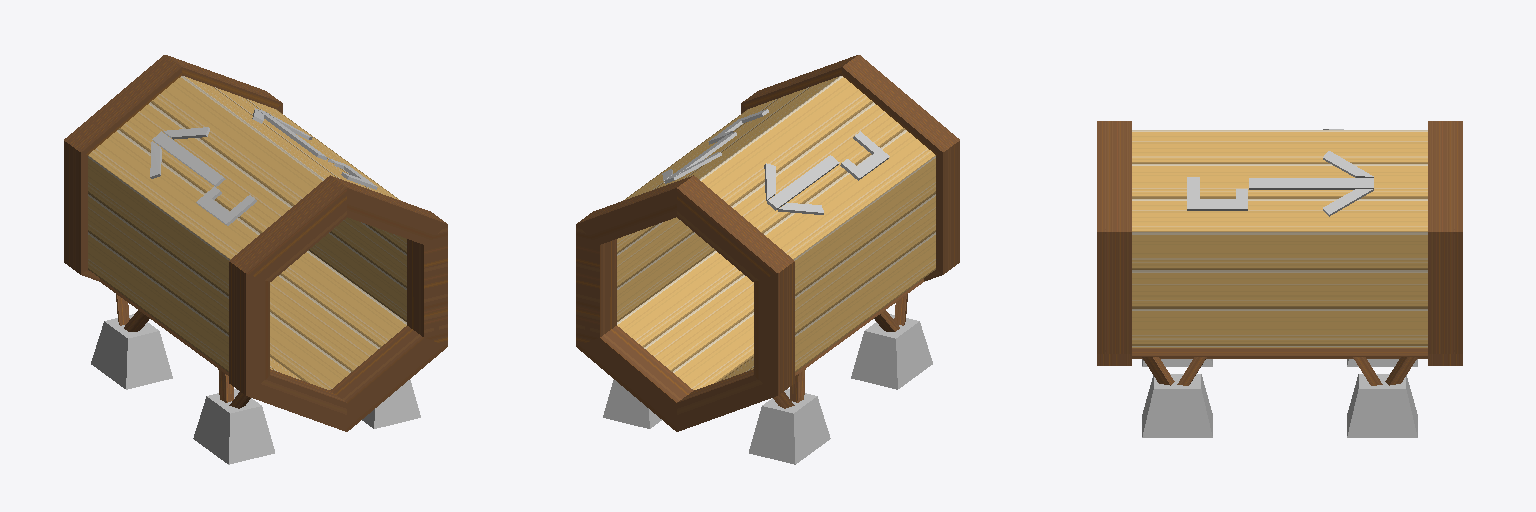
The picture shows the model from 3 angles: view 1: azimuth 30°, elevation 25°; view 2: azimuth 150°, elevation 25°; view 3: azimuth 270°, elevation 25°; orthographic projection.
Parts seen in each view (by area): view 1: Band7.001_Circle.002, Cylinder.003_Cylinder.006, Cylinder.004_Cylinder.007, Cylinder_Cylinder.002, ConcreteSupport_Cube.002, Cylinder.010_Cylinder.013, Cube.002_Cube.001, Cylinder.002_Cylinder.005, SupportLeg2_Cylinder.003; view 2: Band7.001_Circle.002, Cylinder.003_Cylinder.006, Cylinder.004_Cylinder.007, Cylinder_Cylinder.002, ConcreteSupport_Cube.002, Cylinder.010_Cylinder.013, Cube.002_Cube.001, Cylinder.002_Cylinder.005, SupportLeg2_Cylinder.003; view 3: Cylinder.001, Cylinder.002_Cylinder.005, Band7.001_Circle.002, ConcreteSupport_Cube.002, Cube.002_Cube.001, Cube, SupportLeg_Cylinder.004, SupportLeg2_Cylinder.003, Cylinder.006_Cylinder.009.
Part boxes in pixels (left/top/right/bottom): Band7.001_Circle.002: left=64, top=55, right=447, bottom=431; Cylinder.003_Cylinder.006: left=88, top=76, right=323, bottom=259; Cylinder.004_Cylinder.007: left=88, top=156, right=229, bottom=371; Cylinder_Cylinder.002: left=270, top=250, right=406, bottom=389; ConcreteSupport_Cube.002: left=91, top=314, right=420, bottom=464; Cylinder.010_Cylinder.013: left=309, top=217, right=406, bottom=321; Cube.002_Cube.001: left=150, top=108, right=377, bottom=225; Cylinder.002_Cylinder.005: left=184, top=76, right=400, bottom=200; SupportLeg2_Cylinder.003: left=124, top=310, right=233, bottom=402; Band7.001_Circle.002: left=576, top=55, right=959, bottom=431; Cylinder.003_Cylinder.006: left=700, top=76, right=935, bottom=259; Cylinder.004_Cylinder.007: left=794, top=156, right=935, bottom=371; Cylinder_Cylinder.002: left=617, top=250, right=753, bottom=389; ConcreteSupport_Cube.002: left=603, top=314, right=932, bottom=464; Cylinder.010_Cylinder.013: left=617, top=217, right=714, bottom=321; Cube.002_Cube.001: left=662, top=109, right=889, bottom=214; Cylinder.002_Cylinder.005: left=623, top=76, right=839, bottom=200; SupportLeg2_Cylinder.003: left=790, top=310, right=899, bottom=402; Cylinder.001: left=1132, top=232, right=1427, bottom=345; Cylinder.002_Cylinder.005: left=1132, top=130, right=1427, bottom=231; Band7.001_Circle.002: left=1097, top=121, right=1462, bottom=365; ConcreteSupport_Cube.002: left=1142, top=359, right=1417, bottom=437; Cube.002_Cube.001: left=1187, top=129, right=1373, bottom=216; Cube: left=1132, top=348, right=1427, bottom=358; SupportLeg_Cylinder.004: left=1142, top=357, right=1417, bottom=385; SupportLeg2_Cylinder.003: left=1177, top=357, right=1382, bottom=385; Cylinder.006_Cylinder.009: left=1132, top=346, right=1427, bottom=347.
Size of the model in its own units: 2.33 by 2.97 by 3.64.
5 materials, 2 textured.